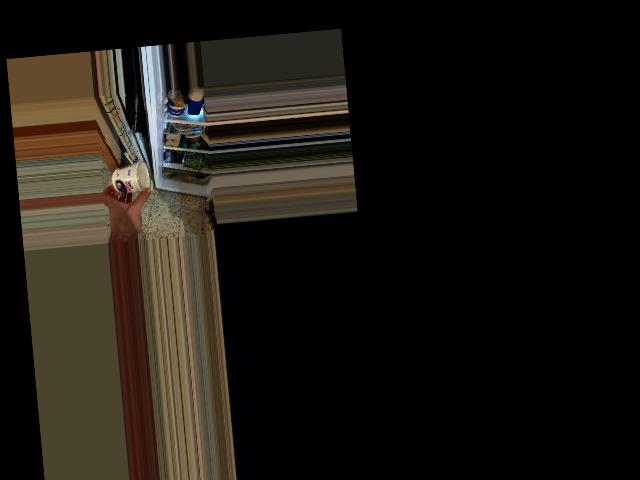cotage: (110, 161, 150, 195)
